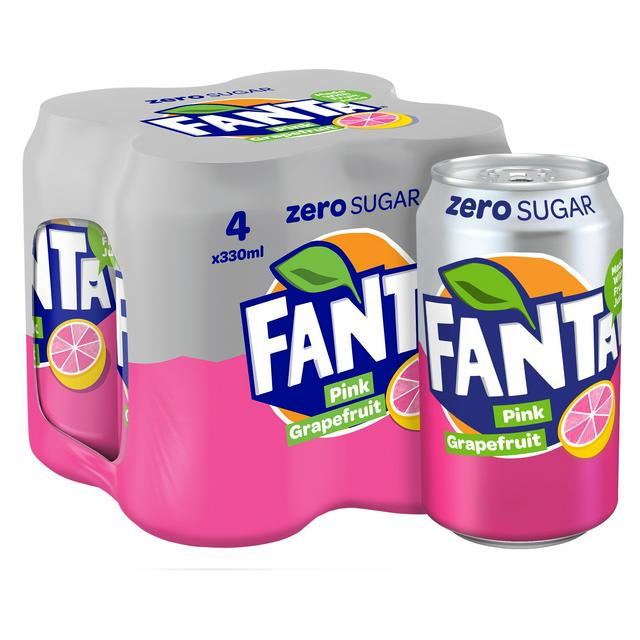Fanta: (394, 156, 629, 548)
